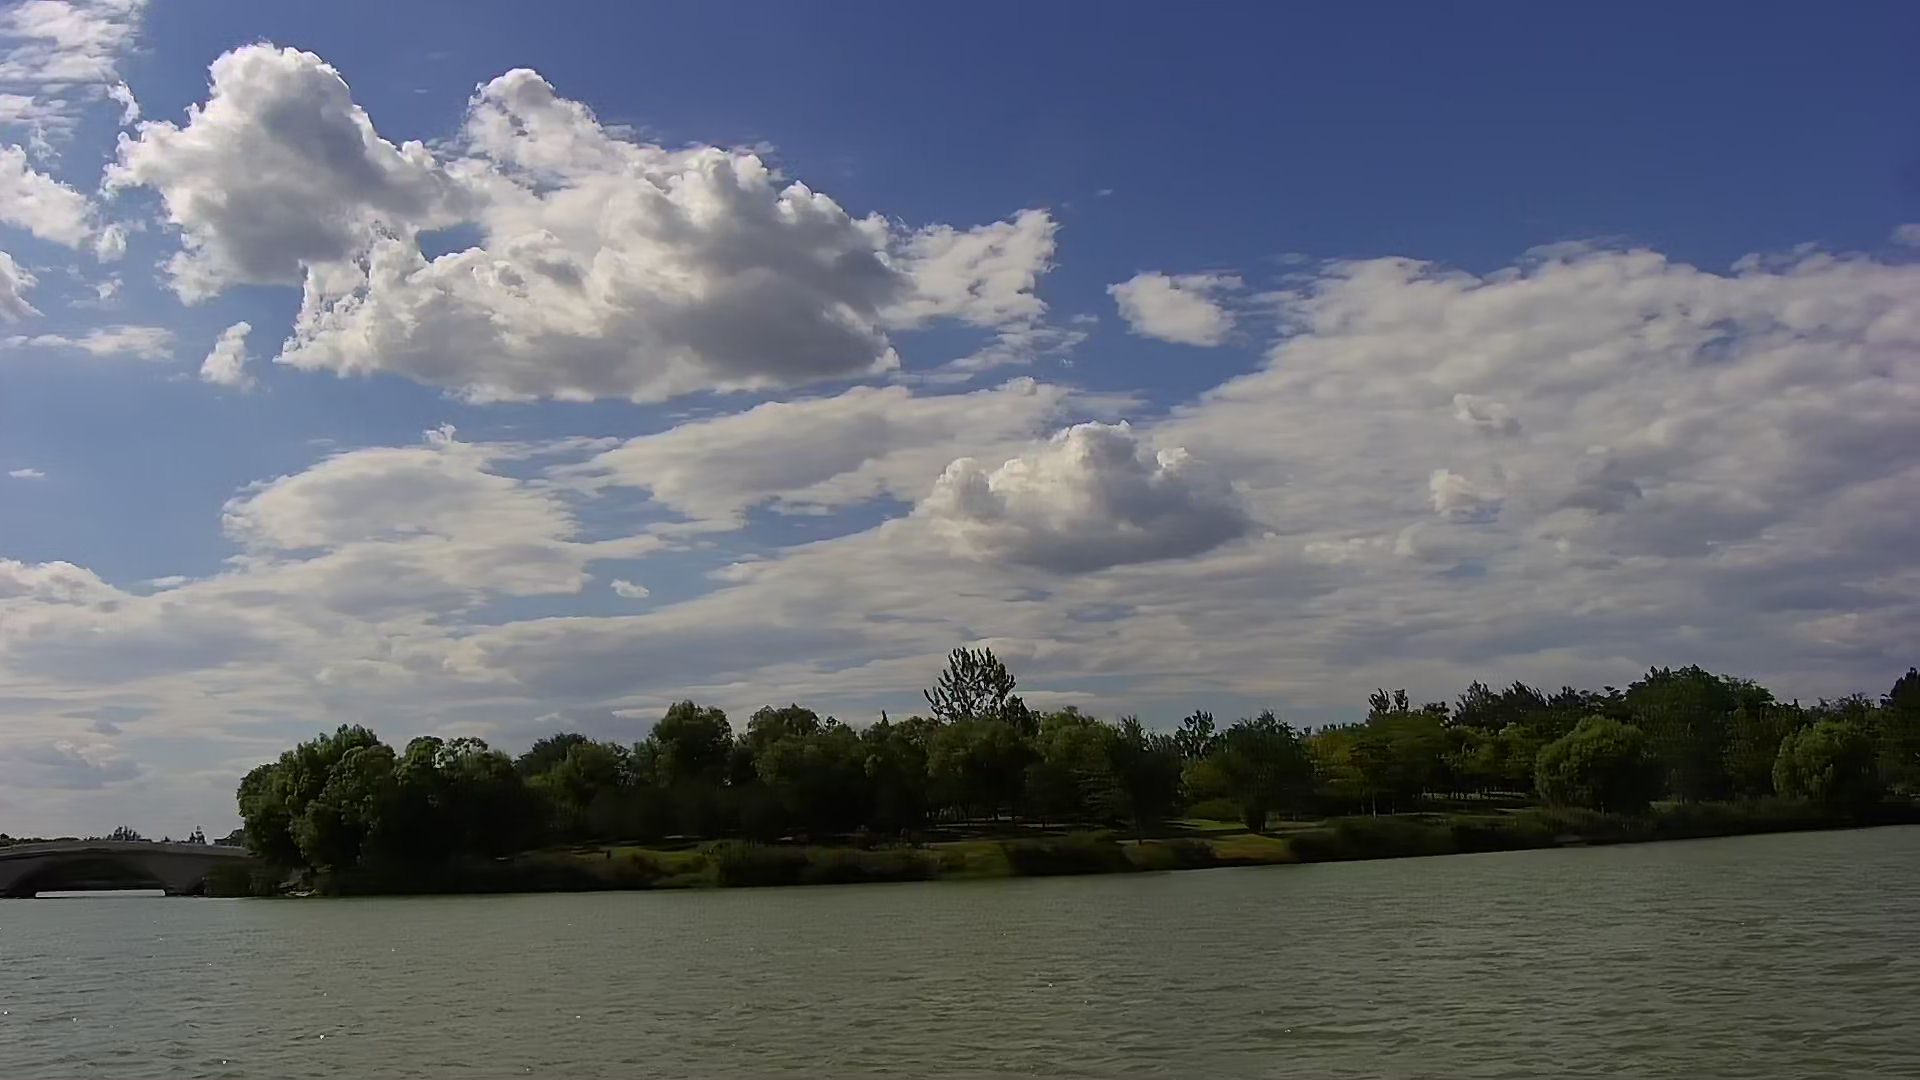bridge: (1, 839, 240, 899)
